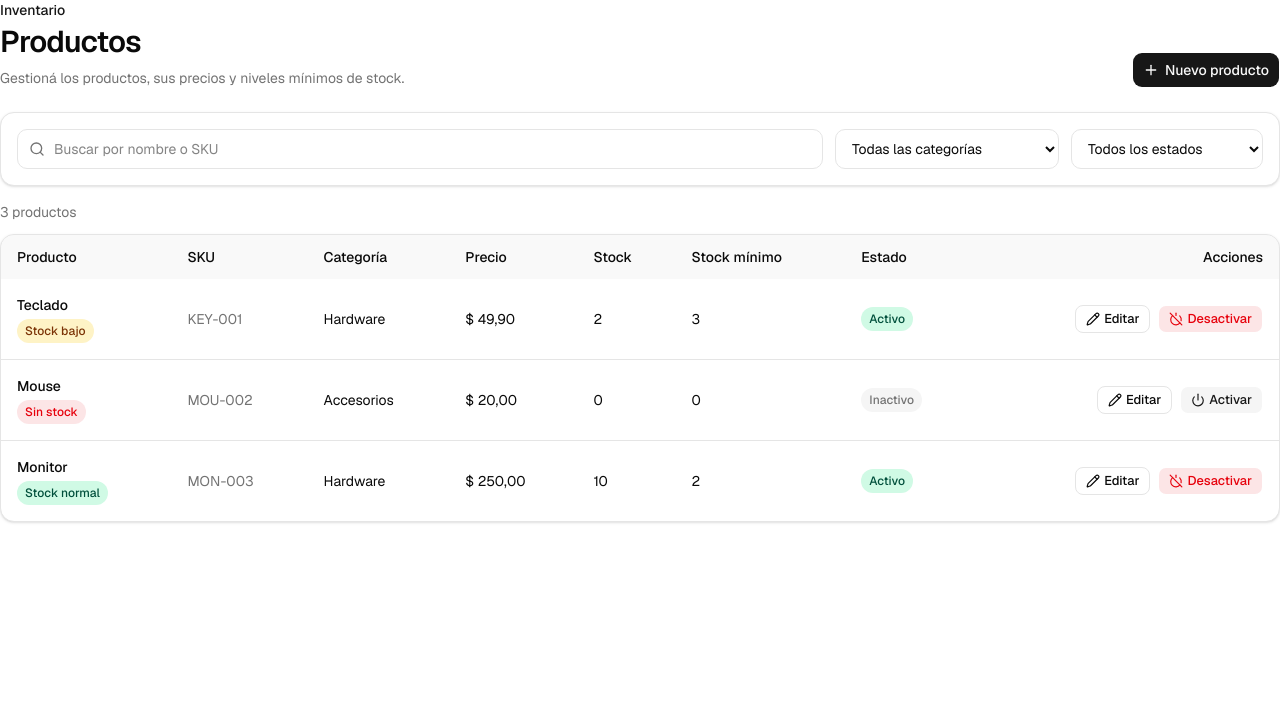
Test: ProductsPage › clears a duplicate SKU error when the user changes the SKU
Click the button "Nuevo producto" at (1206,70), box [1132, 52, 1279, 88]
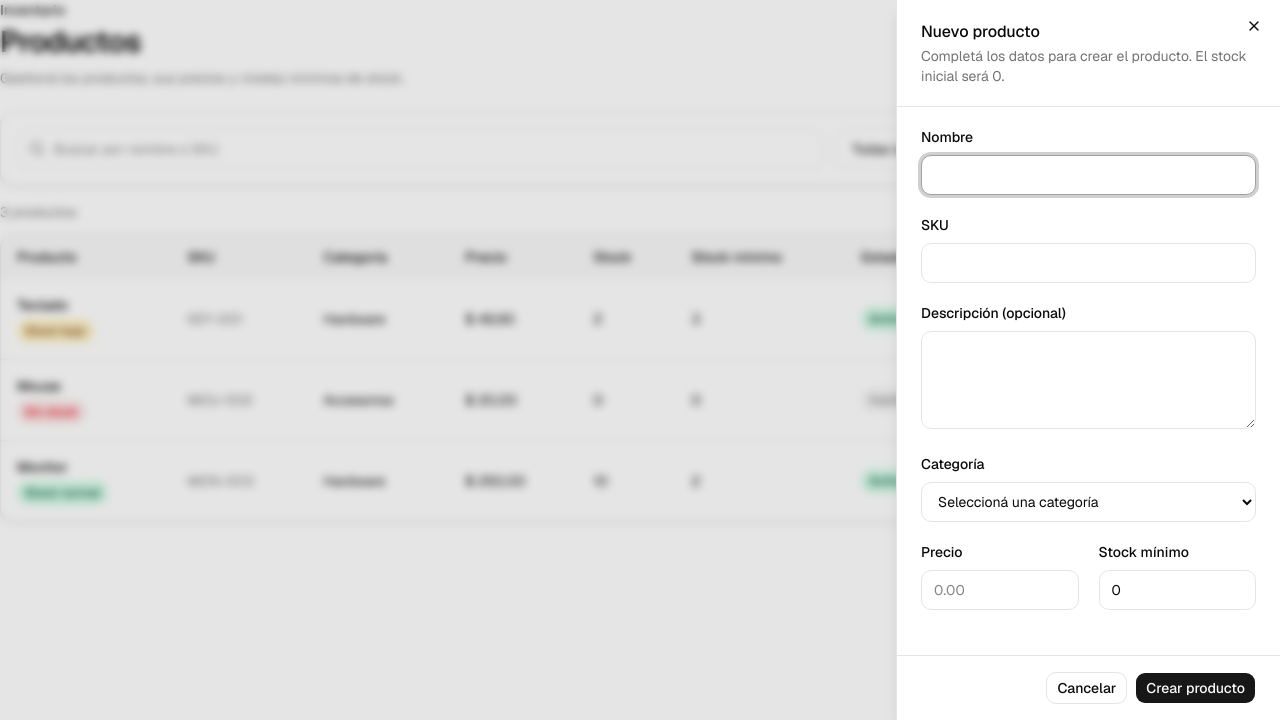
Type "Otro" into the field labelled "Nombre" at (1088,175), box [921, 155, 1256, 195]
Type "KEY-001" into the field labelled "SKU" at (1088,263), box [921, 243, 1256, 283]
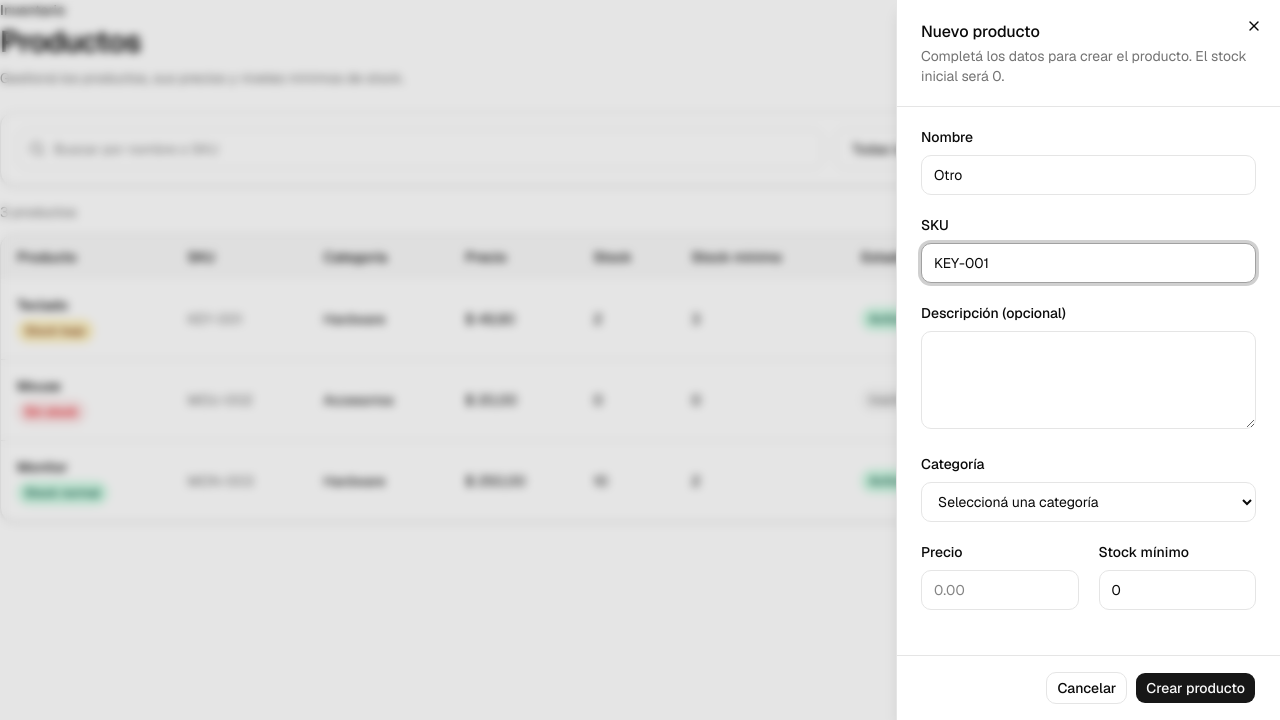
Select "Hardware" in the dropdown labelled "Categoría" at (1088,502), box [921, 482, 1256, 522]
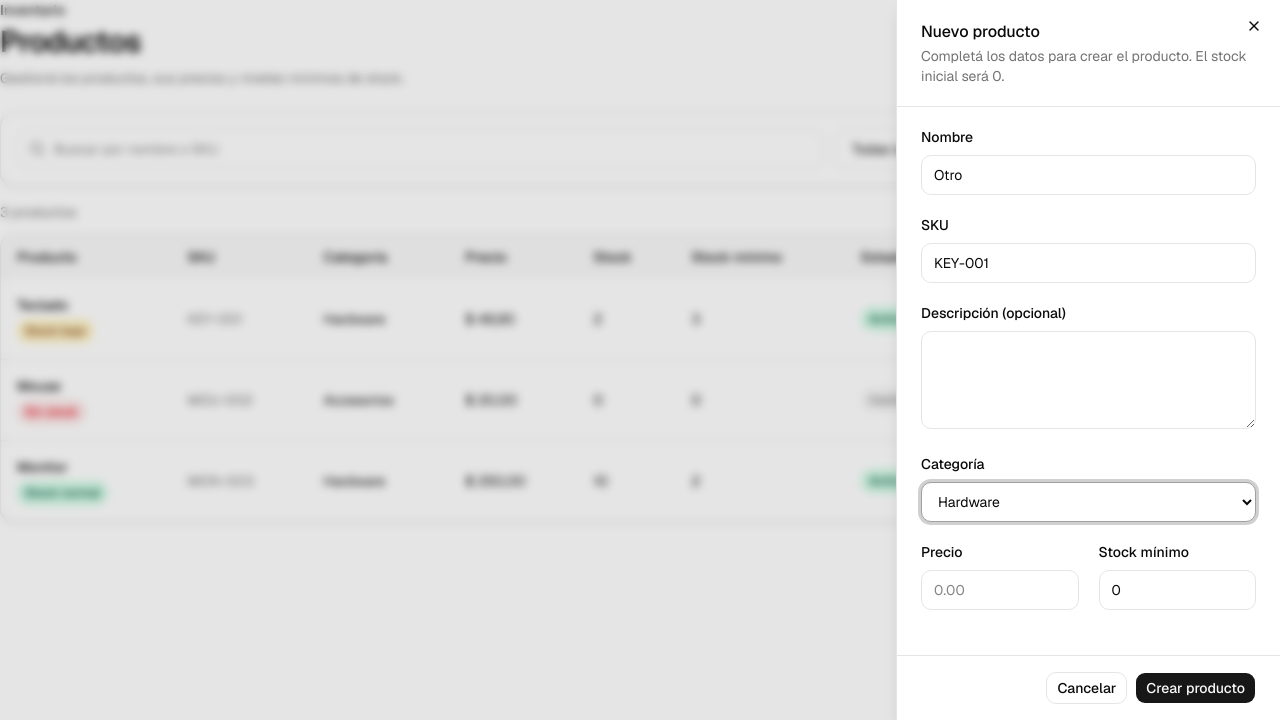
Type "10.00" into the field labelled "Precio" at (1000,590), box [921, 570, 1078, 610]
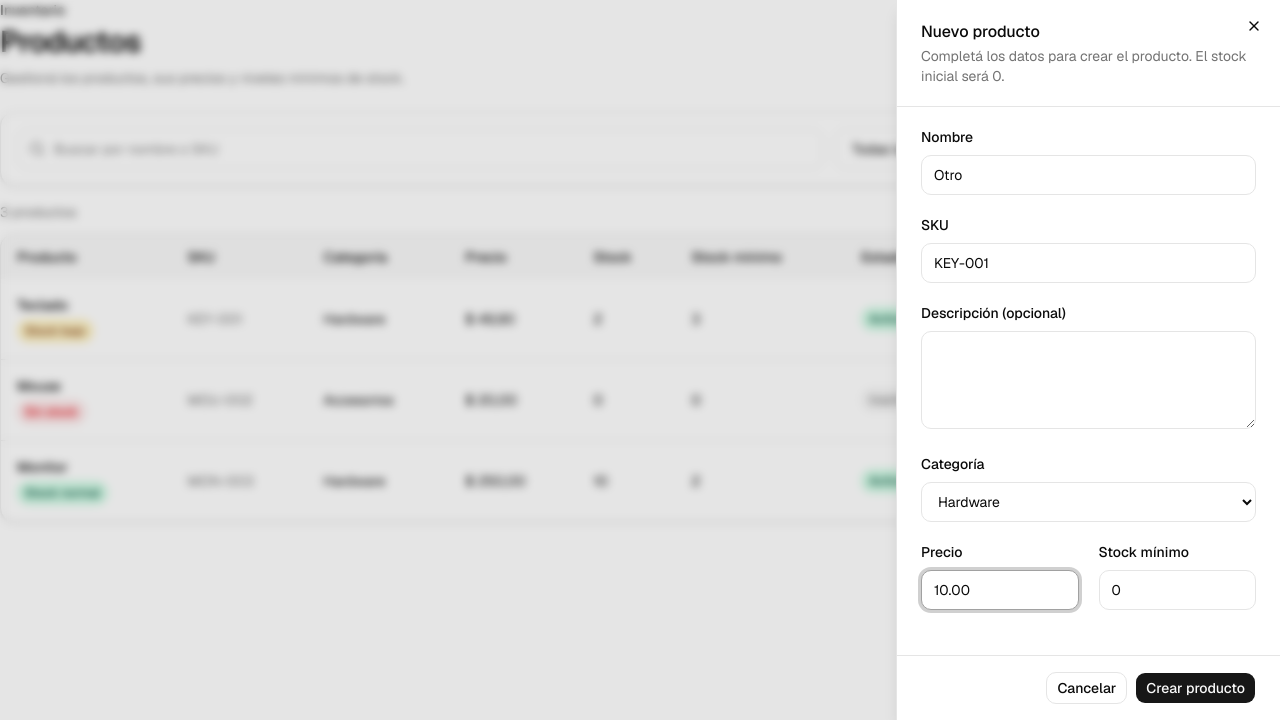
Click the button "Crear producto" at (1196,688), box [1135, 672, 1256, 704]
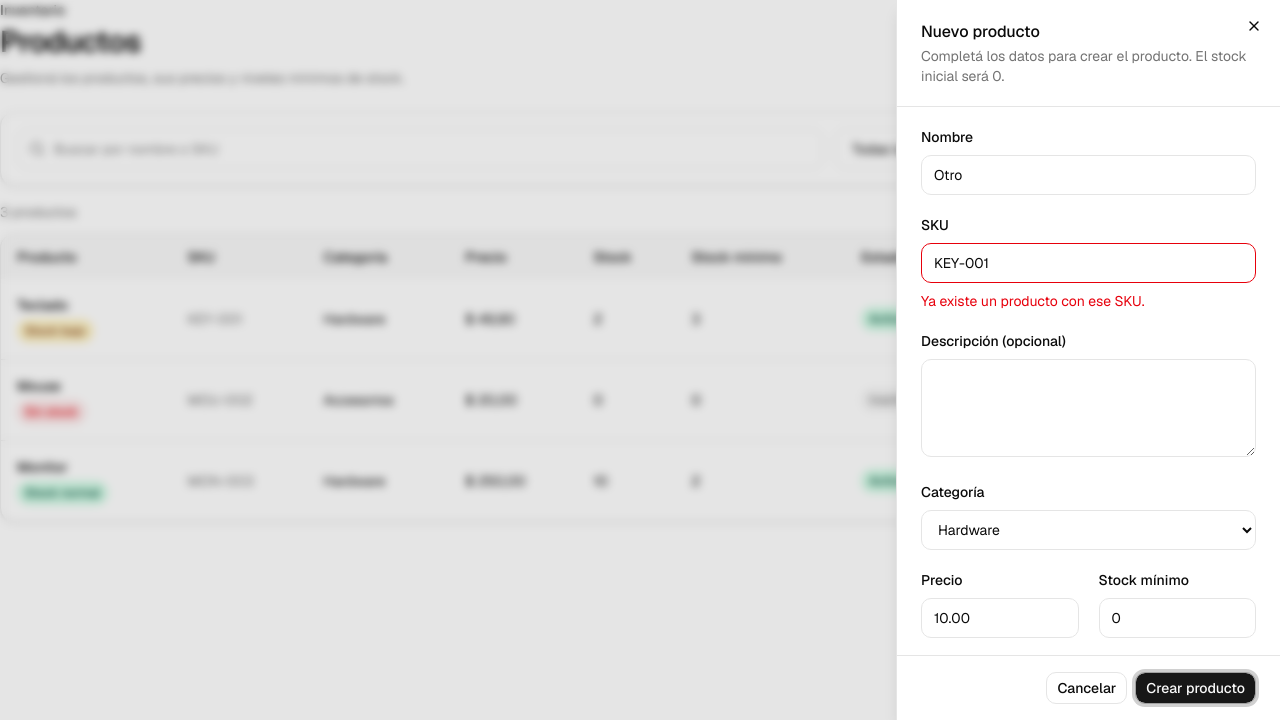
Now the message reads "Ya existe un producto con ese SKU.", box [921, 292, 1144, 310]
Type "-NEW" into the field labelled "SKU" at (1088,263), box [921, 243, 1256, 283]
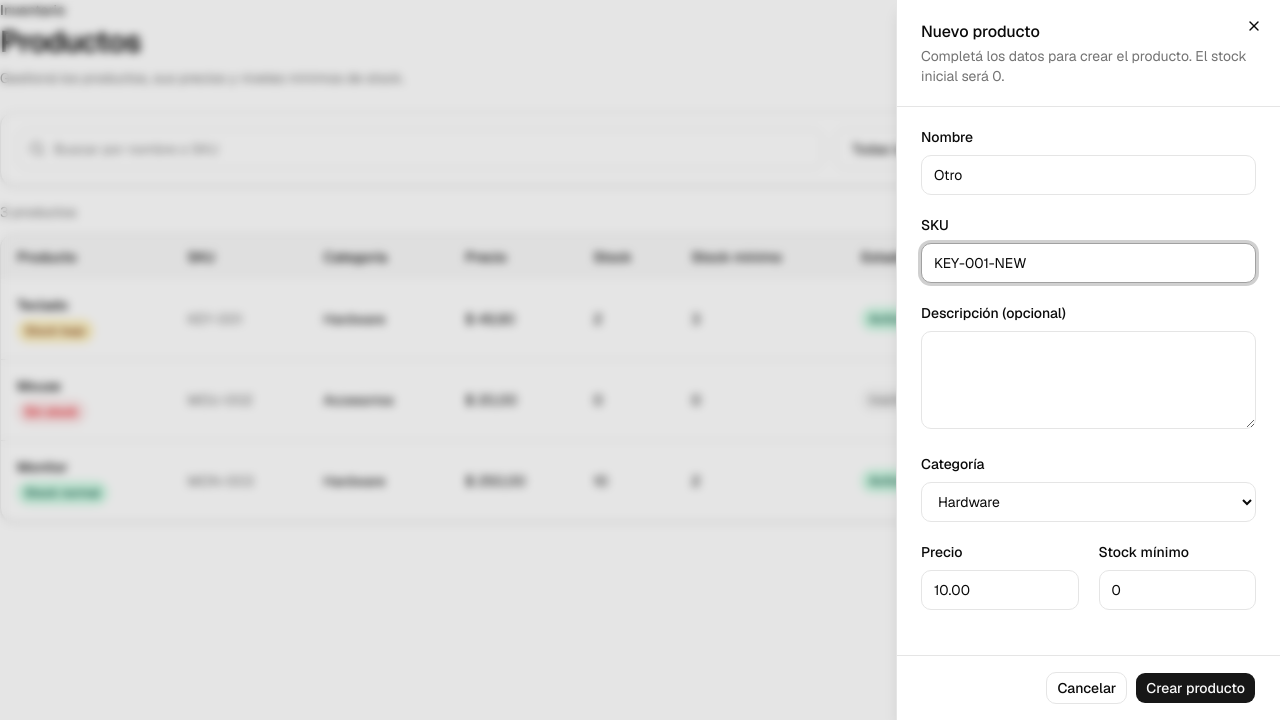
Now the text "Ya existe un producto con ese SKU." is gone
